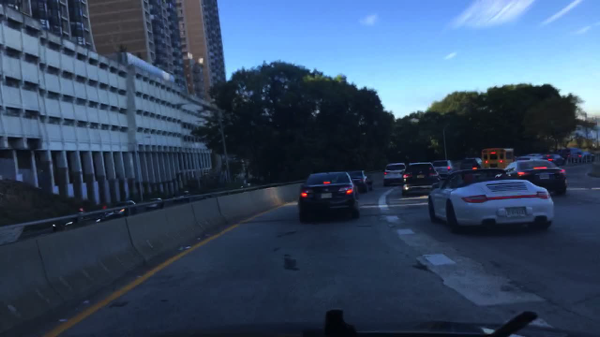bus: (479, 148, 514, 170)
car: (426, 169, 554, 233), (297, 173, 362, 222), (401, 163, 440, 195), (96, 201, 135, 223), (53, 208, 87, 230), (344, 171, 373, 193), (382, 162, 405, 187), (566, 149, 594, 163), (538, 154, 565, 167), (459, 156, 479, 172), (145, 197, 164, 211), (173, 191, 189, 206), (527, 152, 542, 162), (514, 156, 538, 162), (238, 183, 251, 191)
